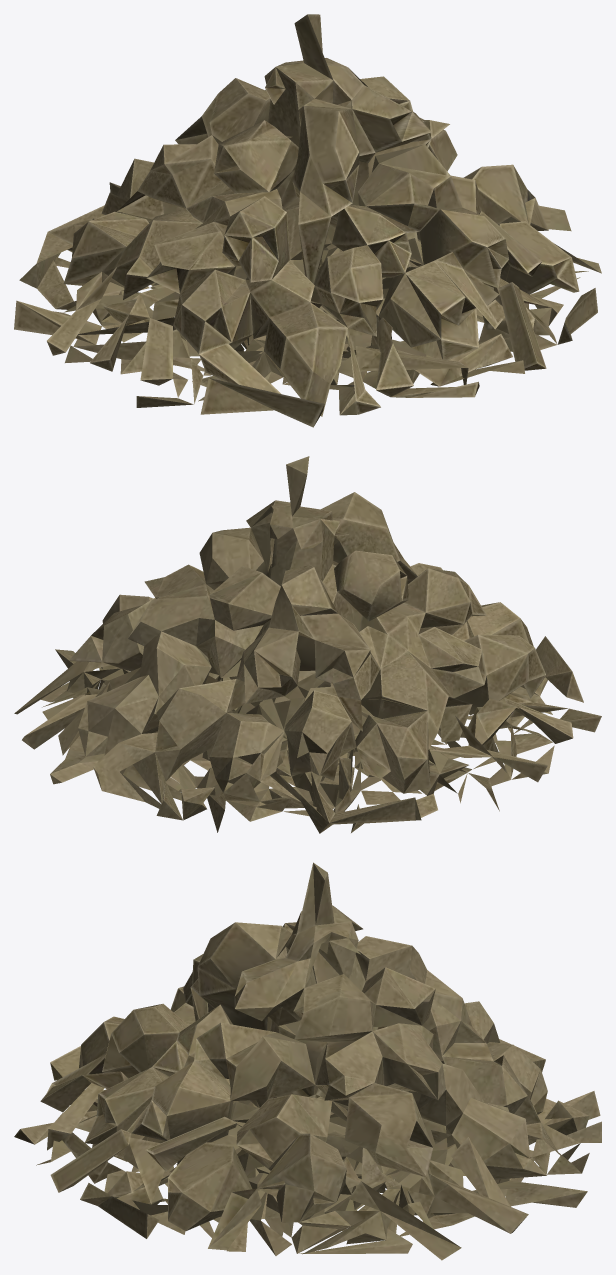
The model's file is skulls.glb.
3 renders of one model, top to bottom at view 1: azimuth 30°, elevation 25°; view 2: azimuth 150°, elevation 25°; view 3: azimuth 270°, elevation 25°, orthographic. The views are drawn at different scales.
Size of the model in its own units: 1.85 by 0.9777 by 1.85.
1 material, 1 textured.
